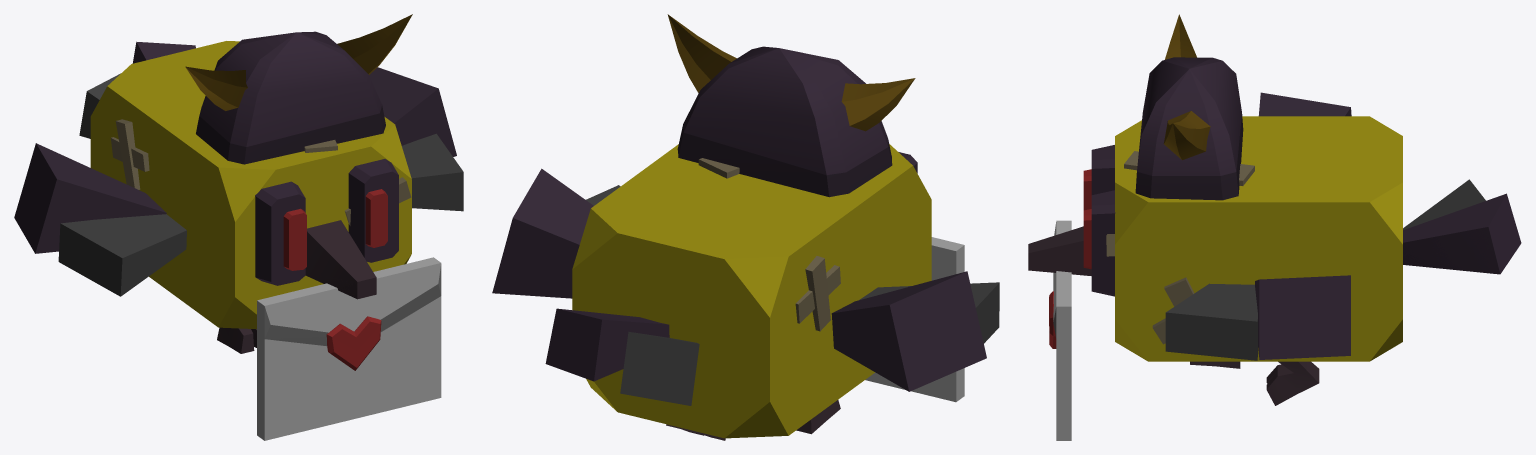
File: enemy_bird_02.fbx
3 views of the same model, side by side, from view 1: azimuth 30°, elevation 25°; view 2: azimuth 150°, elevation 25°; view 3: azimuth 270°, elevation 25° (orthographic). The views are drawn at different scales.
Visible parts, largest first — view 1: enemy_bird_02_mesh, enemy_bird_hit_02_mesh; view 2: enemy_bird_02_mesh, enemy_bird_hit_02_mesh; view 3: enemy_bird_02_mesh, enemy_bird_hit_02_mesh.
Part boxes in pixels (box(x1,y1,x2,y2)): enemy_bird_02_mesh: box(14, 14, 463, 440); enemy_bird_hit_02_mesh: box(14, 41, 463, 440); enemy_bird_02_mesh: box(492, 14, 999, 440); enemy_bird_hit_02_mesh: box(492, 145, 999, 436); enemy_bird_02_mesh: box(1028, 14, 1521, 440); enemy_bird_hit_02_mesh: box(1028, 93, 1520, 440).
Bounding box in the file's own units: 0.9796 × 0.7497 × 1.
